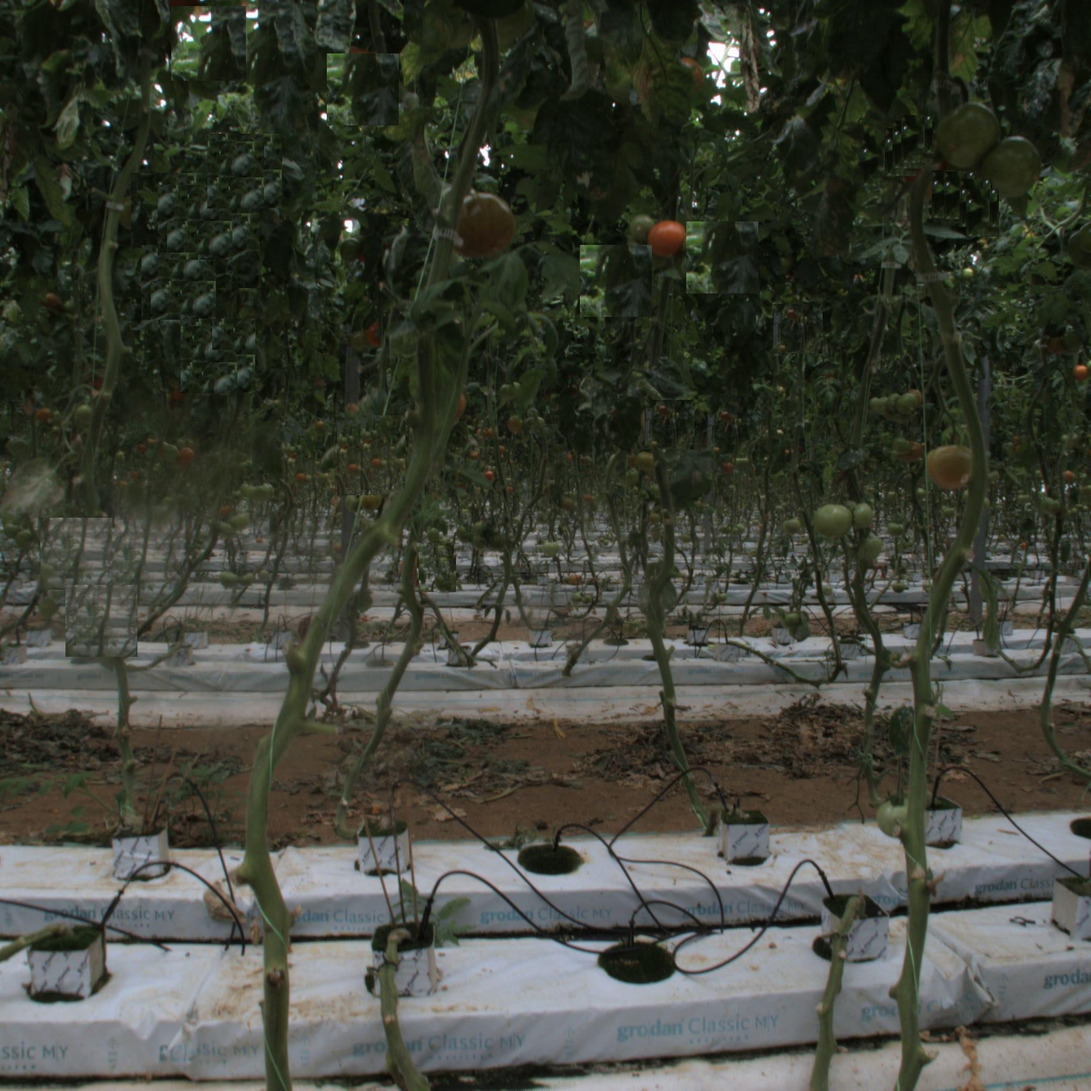['unripe', 'semi-ripe', 'fully-ripe']: (936, 103, 1002, 169), (985, 136, 1042, 193), (813, 500, 853, 539)
